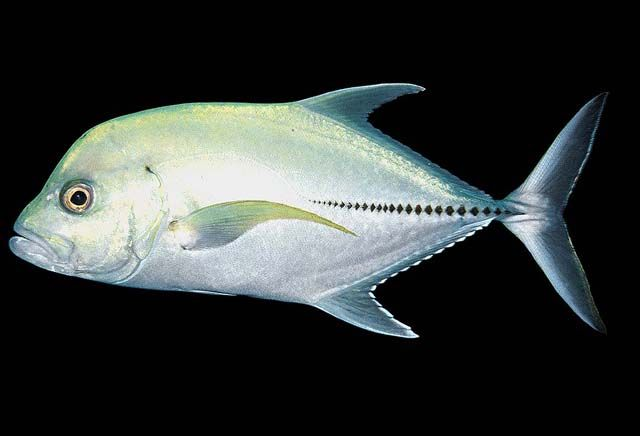fish: (10, 82, 610, 339)
